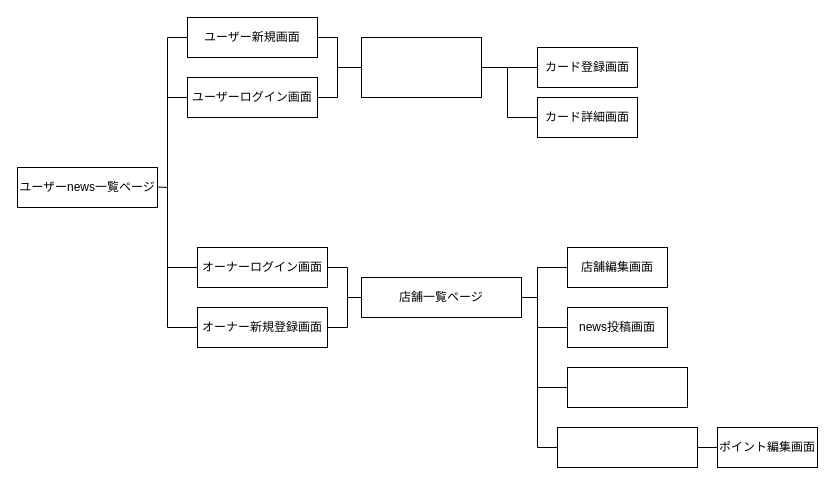
Some shapes in this 835 by 485 pixel diagram are drawn without their labels. The centre of each missing label's shape, as x and y in pixels:
"news編集画面" goes at (627,387).
"カード読み取り画面" goes at (627,447).
"ユーザーカード 一覧画面" goes at (421,67).
